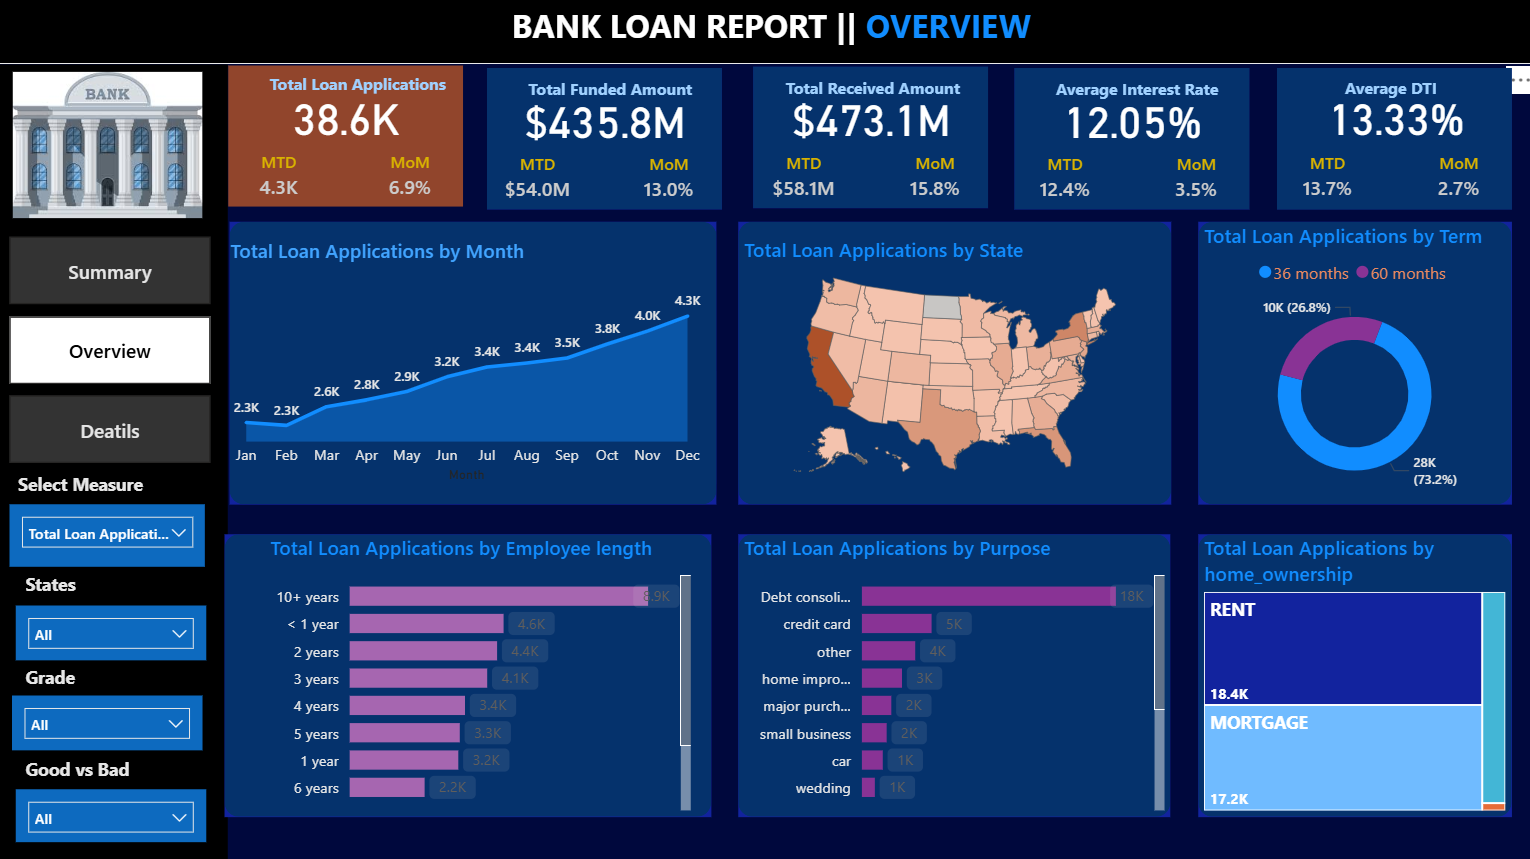

The page's visual inventory and layout, read from the dashboard file:
{"tool":"powerbi","page":{"name":"Overview","canvas":[1280,720],"ordinal":1},"visuals":[{"type":"shape","box":[191.9,55.8,195.3,117.4],"z":0,"group":"g1"},{"type":"shape","box":[628.9,56.7,195.3,117.4],"z":0,"group":"g3"},{"type":"shape","box":[407.8,57.8,195.3,117.4],"z":0,"group":"g2"},{"type":"shape","box":[845.6,57.8,195.3,117.4],"z":0,"group":"g4"},{"type":"shape","box":[1064,58.1,195.6,117.8],"z":0,"group":"g5"},{"type":"shape","box":[193.3,185.6,405,235],"z":0},{"type":"shape","box":[0,0,1280.2,54.7],"z":1000},{"type":"card","fields":{"Values":["bank_loan_data.Total Loan Applications"]},"box":[193.4,73.3,194.4,48.9],"z":1000,"group":"g1"},{"type":"card","fields":{"Values":["bank_loan_data.Avg DTI"]},"box":[1066,74.1,194.4,48.9],"z":1000,"group":"g5"},{"type":"card","fields":{"Values":["bank_loan_data.Total Received Amount"]},"box":[630.4,74.2,194.4,48.9],"z":1000,"group":"g3"},{"type":"card","fields":{"Values":["bank_loan_data.Total Funded Amount"]},"box":[409.3,75.3,194.4,48.9],"z":1000,"group":"g2"},{"type":"card","fields":{"Values":["bank_loan_data.Avg Interest Rate"]},"box":[847.1,75.3,194.4,48.9],"z":1000,"group":"g4"},{"type":"shape","box":[0,54.7,191.9,665.1],"z":2000},{"type":"textbox","box":[192.1,57.1,193.3,27.8],"z":2000,"group":"g1"},{"type":"textbox","box":[1064.5,60.1,195.3,27.9],"z":2000,"group":"g5"},{"type":"textbox","box":[628.9,60.2,195.3,27.9],"z":2000,"group":"g3"},{"type":"textbox","box":[407.8,61.3,195.3,27.9],"z":2000,"group":"g2"},{"type":"textbox","box":[845.6,61.3,195.3,27.9],"z":2000,"group":"g4"},{"type":"textbox","box":[422.6,0,716.3,56.3],"z":3000},{"type":"card","title":"MTD","fields":{"Values":["bank_loan_data.MTD Loan Applications"]},"box":[201.2,126.7,65.6,46.7],"z":3000,"group":"g1"},{"type":"card","title":"MTD","fields":{"Values":["bank_loan_data.MTD Avg DTI"]},"box":[1073.7,127.5,65.6,46.7],"z":3000,"group":"g5"},{"type":"card","title":"MTD","fields":{"Values":["bank_loan_data.MTD Total Received Amount"]},"box":[638.2,127.6,65.6,46.7],"z":3000,"group":"g3"},{"type":"card","title":"MTD","fields":{"Values":["bank_loan_data.MTD Funded Amount"]},"box":[417.1,128.7,65.6,46.7],"z":3000,"group":"g2"},{"type":"card","title":"MTD","fields":{"Values":["bank_loan_data.MTD Avg Interest Rate"]},"box":[854.9,128.7,65.6,46.7],"z":3000,"group":"g4"},{"type":"group","id":"g1","title":"Group 1","box":[191.9,55.8,195.9,117.5],"z":4000},{"type":"card","title":"MoM","fields":{"Values":["bank_loan_data.MoM Loan Applications"]},"box":[310,126.7,65.6,46.7],"z":4000,"group":"g1"},{"type":"card","title":"MoM","fields":{"Values":["bank_loan_data.MoM Avg DTI"]},"box":[1182.6,127.5,65.6,46.7],"z":4000,"group":"g5"},{"type":"card","title":"MoM","fields":{"Values":["bank_loan_data.MoM Total Received Amount"]},"box":[747,127.6,65.6,46.7],"z":4000,"group":"g3"},{"type":"card","title":"MoM","fields":{"Values":["bank_loan_data.MoM Funded Amount"]},"box":[525.9,128.7,65.6,46.7],"z":4000,"group":"g2"},{"type":"card","title":"MoM","fields":{"Values":["bank_loan_data.MoM Avg Interest Rate"]},"box":[963.7,128.7,65.6,46.7],"z":4000,"group":"g4"},{"type":"group","id":"g2","title":"Group 1","box":[407.8,57.8,195.6,117.8],"z":5000},{"type":"group","id":"g3","title":"Group 1","box":[628.9,56.7,195.6,117.8],"z":6000},{"type":"group","id":"g4","title":"Group 1","box":[845.6,57.8,195.6,117.8],"z":7000},{"type":"group","id":"g5","title":"Group 1","box":[1064,58.1,196.4,117.8],"z":8000},{"type":"slicer","fields":{"Values":["bank_loan_data.address_state"]},"box":[15.1,504.7,158.1,45.3],"z":9000},{"type":"textbox","box":[18.6,472.1,65.1,32.6],"z":10000},{"type":"slicer","fields":{"Values":["bank_loan_data.grade"]},"box":[12.8,580.2,158.1,45.3],"z":11000},{"type":"textbox","box":[18.6,550,65.1,30.2],"z":12000},{"type":"slicer","fields":{"Values":["bank_loan_data.Good vs Bad Loans"]},"box":[15.1,658.1,158.1,44.2],"z":13000},{"type":"textbox","box":[18.6,625.6,125.6,32.6],"z":14000},{"type":"slicer","fields":{"Values":["Select Measure.Select Measure"]},"box":[10.5,420.9,162.8,52.3],"z":15000},{"type":"areaChart","fields":{"Y":["bank_loan_data.Total Loan Applications"],"Category":["Date Table.MONTH"]},"box":[189.5,198.8,403.5,209.3],"z":16000},{"type":"textbox","box":[12.8,388.4,129.1,32.6],"z":17000},{"type":"shape","box":[616.3,186,360,235],"z":18000},{"type":"shapeMap","fields":{"Value":["bank_loan_data.Total Loan Applications"],"Category":["bank_loan_data.address_state"]},"box":[616.3,197.7,360.5,210.5],"z":19000},{"type":"shape","box":[998.8,186,260.5,234.9],"z":20000},{"type":"donutChart","fields":{"Y":["bank_loan_data.Total Loan Applications"],"Category":["bank_loan_data.term"]},"box":[998.8,186,260.5,234.9],"z":21000},{"type":"shape","box":[189.5,445.4,404.7,234.9],"z":22000},{"type":"barChart","fields":{"Y":["bank_loan_data.Total Loan Applications"],"Category":["bank_loan_data.emp_length"]},"box":[222.1,445.4,359.3,234.9],"z":23000},{"type":"shape","box":[616.3,445.4,359.3,234.9],"z":24000},{"type":"barChart","fields":{"Y":["bank_loan_data.Total Loan Applications"],"Category":["bank_loan_data.purpose"]},"box":[616.3,445.4,359.3,234.9],"z":25000},{"type":"shape","box":[998.8,445.4,260.5,234.9],"z":26000},{"type":"treemap","fields":{"Values":["bank_loan_data.Total Loan Applications"],"Group":["bank_loan_data.home_ownership"]},"box":[998.8,445.4,260.5,234.9],"z":27000},{"type":"pageNavigator","box":[10.5,198.8,167.4,188.4],"z":27001},{"type":"image","box":[8.1,37.2,167.4,169.8],"z":27002}]}

Visuals, with their boxes in screenshot pixels (x1, y1, x2, y2), scaled from the page's 1280x720 canvas onto the 1530x859 screenshot:
shape: <box>229,67,463,207</box>
shape: <box>752,68,985,208</box>
shape: <box>487,69,721,209</box>
shape: <box>1011,69,1244,209</box>
shape: <box>1272,69,1506,210</box>
shape: <box>231,221,715,502</box>
shape: <box>0,0,1529,65</box>
card - bank_loan_data.Total Loan Applications: <box>231,87,464,146</box>
card - bank_loan_data.Avg DTI: <box>1274,88,1507,147</box>
card - bank_loan_data.Total Received Amount: <box>754,89,986,147</box>
card - bank_loan_data.Total Funded Amount: <box>489,90,722,148</box>
card - bank_loan_data.Avg Interest Rate: <box>1013,90,1245,148</box>
shape: <box>0,65,229,858</box>
textbox: <box>230,68,461,101</box>
textbox: <box>1272,72,1506,105</box>
textbox: <box>752,72,985,105</box>
textbox: <box>487,73,721,106</box>
textbox: <box>1011,73,1244,106</box>
textbox: <box>505,0,1361,67</box>
"MTD" card: <box>240,151,319,207</box>
"MTD" card: <box>1283,152,1362,208</box>
"MTD" card: <box>763,152,841,208</box>
"MTD" card: <box>499,154,577,209</box>
"MTD" card: <box>1022,154,1100,209</box>
"Group 1" group: <box>229,67,464,207</box>
"MoM" card: <box>371,151,449,207</box>
"MoM" card: <box>1414,152,1492,208</box>
"MoM" card: <box>893,152,971,208</box>
"MoM" card: <box>629,154,707,209</box>
"MoM" card: <box>1152,154,1230,209</box>
"Group 1" group: <box>487,69,721,210</box>
"Group 1" group: <box>752,68,986,208</box>
"Group 1" group: <box>1011,69,1245,210</box>
"Group 1" group: <box>1272,69,1507,210</box>
slicer - bank_loan_data.address_state: <box>18,602,207,656</box>
textbox: <box>22,563,100,602</box>
slicer - bank_loan_data.grade: <box>15,692,204,746</box>
textbox: <box>22,656,100,692</box>
slicer - bank_loan_data.Good vs Bad Loans: <box>18,785,207,838</box>
textbox: <box>22,746,172,785</box>
slicer - Select Measure.Select Measure: <box>13,502,207,565</box>
areaChart - bank_loan_data.Total Loan Applications x Date Table.MONTH: <box>227,237,709,487</box>
textbox: <box>15,463,170,502</box>
shape: <box>737,222,1167,502</box>
shapeMap - bank_loan_data.Total Loan Applications x bank_loan_data.address_state: <box>737,236,1168,487</box>
shape: <box>1194,222,1505,502</box>
donutChart - bank_loan_data.Total Loan Applications x bank_loan_data.term: <box>1194,222,1505,502</box>
shape: <box>227,531,710,812</box>
barChart - bank_loan_data.Total Loan Applications x bank_loan_data.emp_length: <box>265,531,695,812</box>
shape: <box>737,531,1166,812</box>
barChart - bank_loan_data.Total Loan Applications x bank_loan_data.purpose: <box>737,531,1166,812</box>
shape: <box>1194,531,1505,812</box>
treemap - bank_loan_data.Total Loan Applications x bank_loan_data.home_ownership: <box>1194,531,1505,812</box>
pageNavigator: <box>13,237,213,462</box>
image: <box>10,44,210,247</box>
